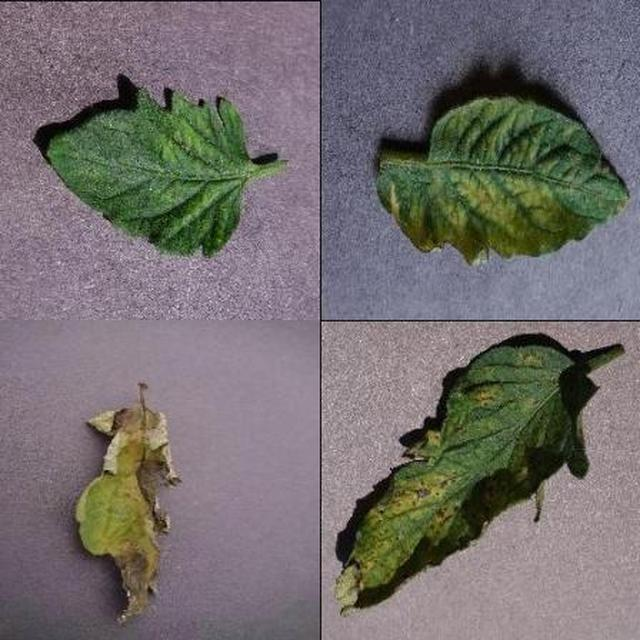Mosaic Virus Leaf: (153, 247, 640, 640)
